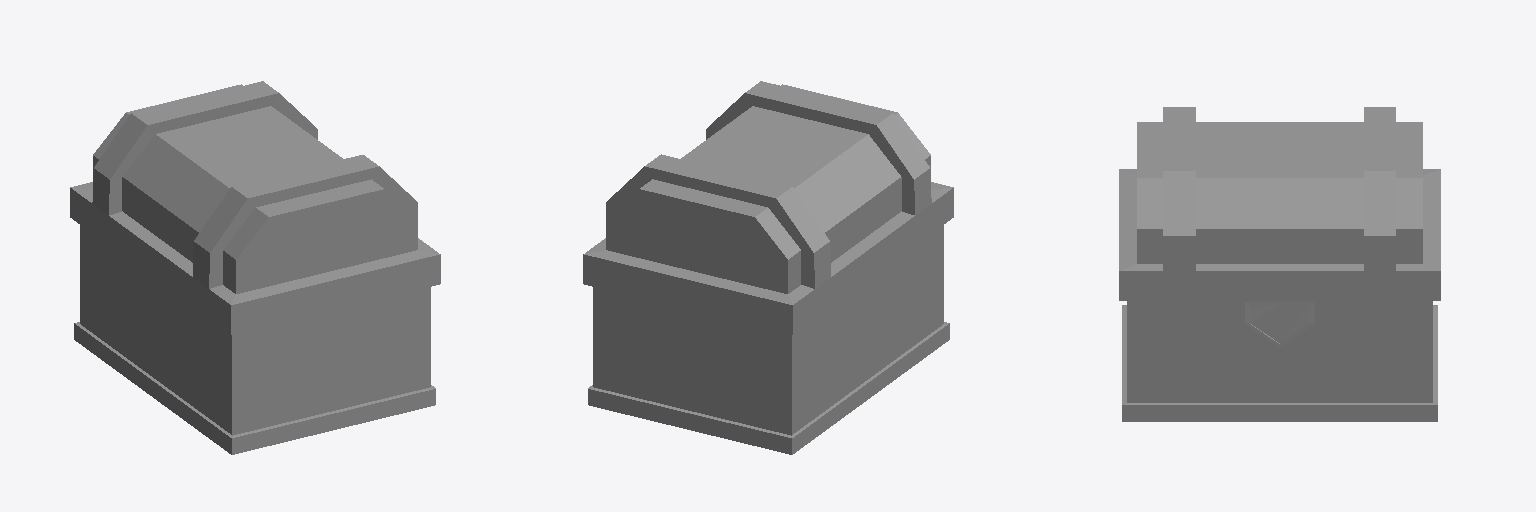
The model's file is chest-5.obj.
3 views of the same model, side by side, from view 1: azimuth 30°, elevation 25°; view 2: azimuth 150°, elevation 25°; view 3: azimuth 270°, elevation 25° (orthographic).
Parts seen in each view (by area): view 1: box_Cube; view 2: box_Cube; view 3: box_Cube.
Boxes of the visible parts, x1=… form: box_Cube: x1=70, y1=81, x2=440, y2=454; box_Cube: x1=583, y1=81, x2=953, y2=454; box_Cube: x1=1119, y1=107, x2=1440, y2=421.
Size of the model in its own units: 0.6374 by 0.673 by 0.8444.